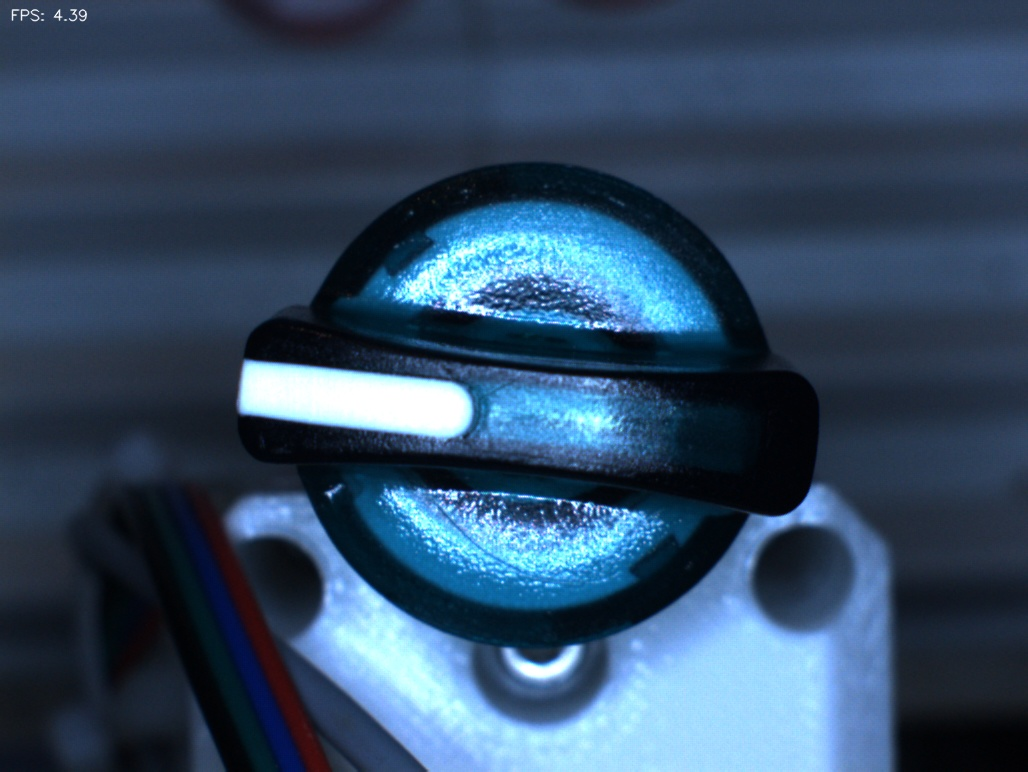Choc: (299, 457, 377, 535)
